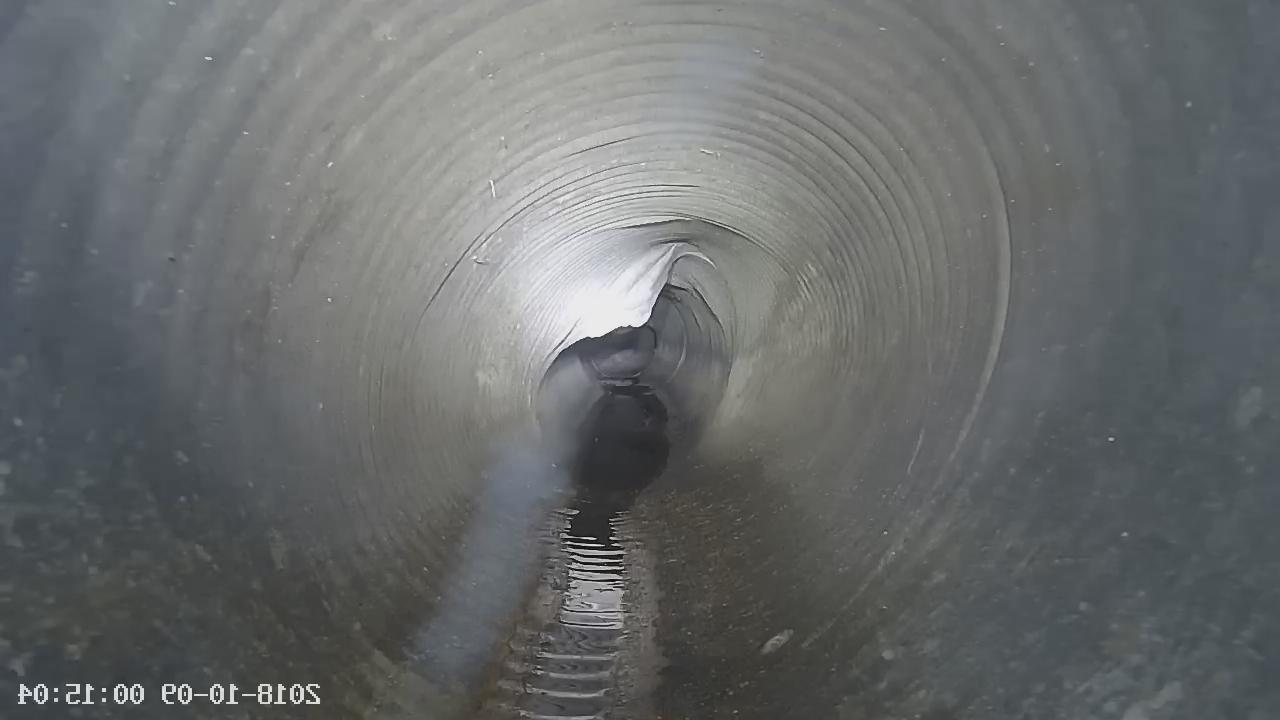BX: (506, 207, 730, 410)
